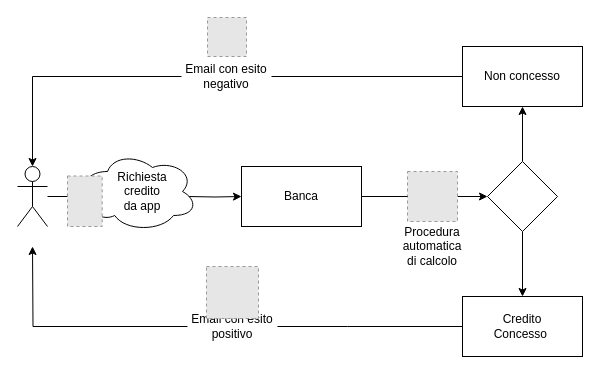
This 600x374 diagram has some shape labels left out. Grey dashed boxes stand in for pictures. Here are the shapes that lost their labels. From the top down, the centre of each, then its label:
the point at 32,196: Actor
the point at 522,196: Decisione
